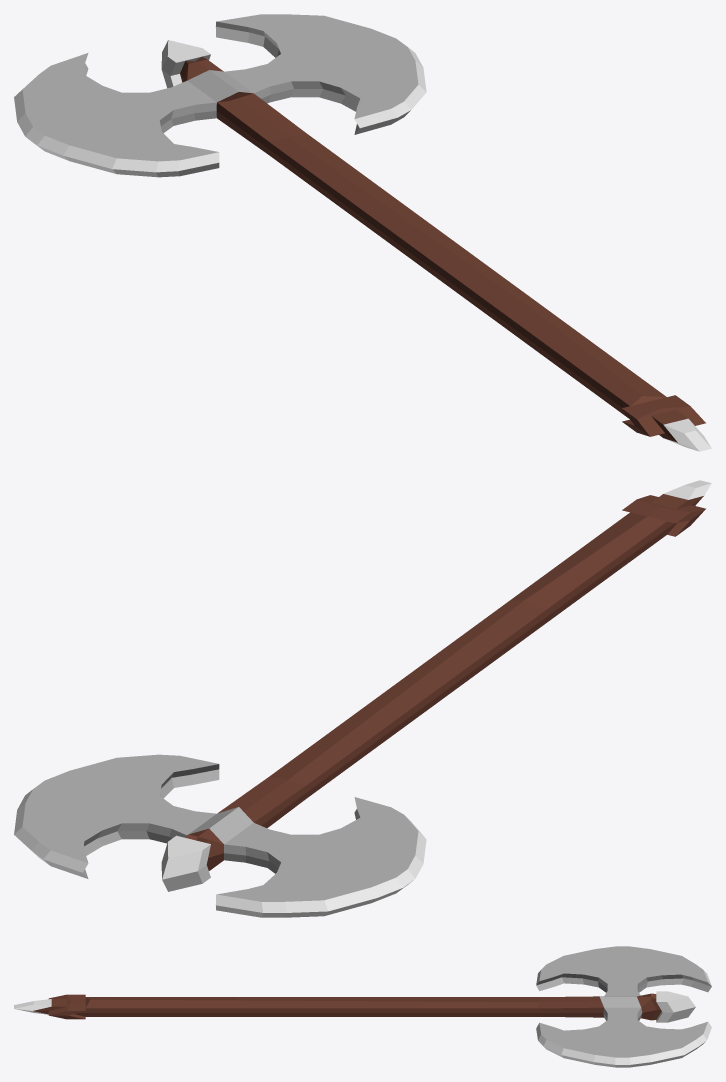
The model's file is BattleAxe.fbx.
The picture shows the model from 3 angles, top to bottom: view 1: azimuth 30°, elevation 25°; view 2: azimuth 150°, elevation 25°; view 3: azimuth 270°, elevation 25°; orthographic projection. The views are drawn at different scales.
Visible parts, largest first — view 1: Cube; view 2: Cube; view 3: Cube.
Part boxes in pixels (<box>): Cube: <box>14,14,711,451</box>; Cube: <box>14,480,711,917</box>; Cube: <box>14,946,711,1067</box>.
Size of the model in its own units: 175 by 14.77 by 445.
